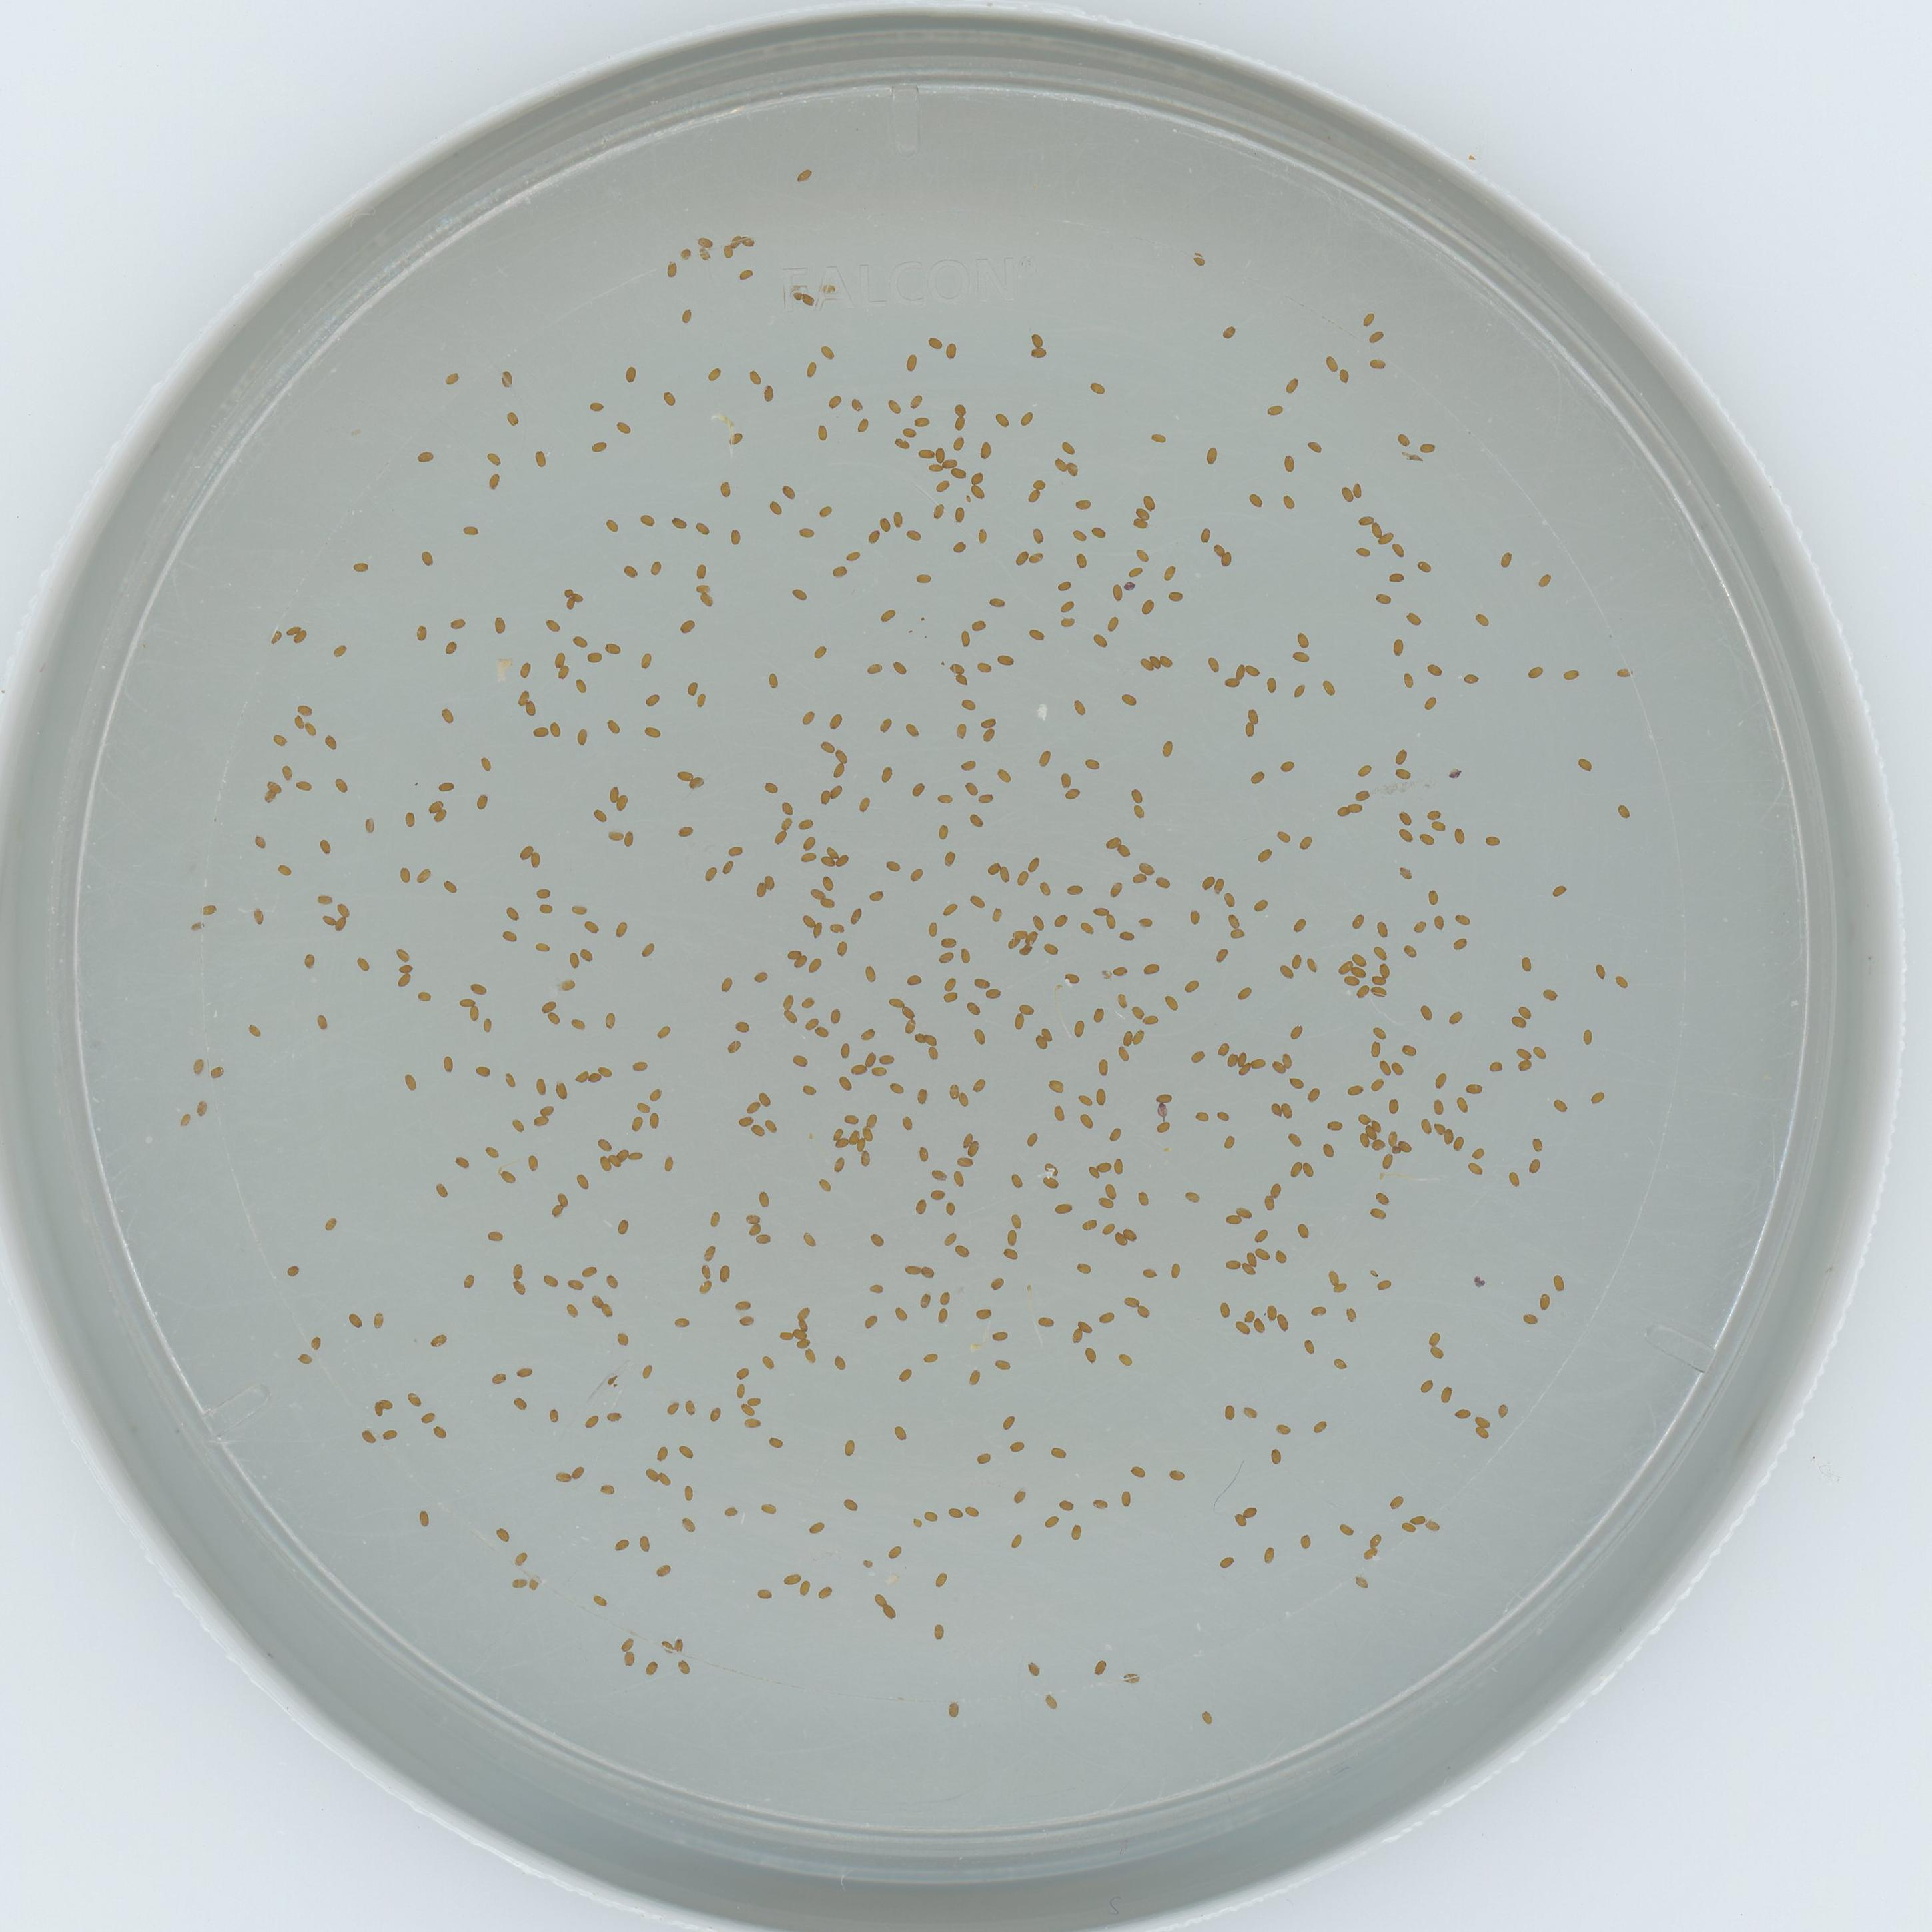seed: (787, 292, 817, 310), (1044, 1074, 1065, 1093), (531, 448, 550, 467), (1136, 596, 1155, 616), (1076, 1109, 1095, 1129), (1143, 961, 1168, 975), (821, 874, 839, 893), (603, 639, 623, 656), (278, 764, 297, 782), (437, 778, 456, 796), (886, 396, 906, 414), (828, 713, 847, 731), (331, 777, 350, 794), (416, 446, 435, 464), (573, 1171, 593, 1189), (494, 1525, 513, 1543), (642, 1660, 662, 1677), (842, 1438, 862, 1456), (1281, 375, 1300, 393), (1392, 764, 1412, 782), (1201, 446, 1221, 464), (1389, 637, 1407, 656), (1391, 748, 1410, 766), (1219, 892, 1238, 909), (1451, 932, 1470, 950), (1449, 828, 1468, 846), (1518, 954, 1536, 973), (1286, 1072, 1306, 1090), (1318, 1139, 1338, 1157), (1465, 1076, 1484, 1093), (1437, 1384, 1454, 1403), (1047, 1102, 1067, 1120), (1251, 1224, 1270, 1242), (1548, 1272, 1568, 1290), (1065, 1523, 1085, 1541), (1592, 961, 1608, 982), (679, 617, 697, 635), (904, 722, 922, 740), (908, 391, 925, 409), (441, 639, 458, 656), (448, 614, 465, 632), (504, 904, 522, 922), (702, 865, 720, 883), (915, 570, 932, 587), (412, 625, 430, 642), (892, 510, 909, 527), (614, 418, 632, 435), (621, 364, 639, 382), (591, 809, 609, 826), (660, 389, 678, 407), (393, 945, 410, 962), (517, 844, 534, 862), (902, 354, 920, 372), (571, 632, 589, 649), (492, 616, 510, 633), (747, 368, 764, 386), (759, 384, 777, 402), (694, 563, 711, 580), (717, 1263, 734, 1281), (786, 1569, 803, 1587), (439, 1053, 456, 1070), (416, 1509, 433, 1527), (678, 1442, 695, 1460), (844, 1495, 862, 1513), (793, 1049, 810, 1067), (869, 1230, 886, 1247), (487, 1226, 504, 1244), (929, 1622, 947, 1640), (524, 1152, 541, 1169), (515, 1361, 533, 1378), (566, 1276, 584, 1293), (554, 1081, 571, 1099), (1152, 874, 1169, 892), (1017, 409, 1035, 426), (994, 768, 1012, 786), (1322, 354, 1339, 372), (1371, 943, 1389, 961), (1276, 828, 1293, 846), (1049, 911, 1067, 929), (1279, 455, 1297, 472), (1396, 810, 1414, 828), (1576, 755, 1594, 773), (1166, 587, 1184, 605), (1120, 690, 1138, 708), (1497, 550, 1514, 568), (977, 441, 994, 458), (1069, 699, 1086, 717), (1028, 911, 1046, 929), (1141, 492, 1159, 510), (1293, 632, 1311, 649), (1212, 945, 1230, 962), (1396, 828, 1414, 846), (1157, 740, 1175, 757), (1097, 1307, 1115, 1325), (1132, 1189, 1150, 1207), (1417, 1003, 1435, 1021), (1168, 1465, 1185, 1483), (1284, 1159, 1302, 1177), (1090, 1086, 1108, 1104), (1090, 1658, 1108, 1675), (1525, 1155, 1543, 1173), (1384, 1095, 1401, 1113), (1373, 1187, 1391, 1205), (1306, 1083, 1323, 1100), (1093, 1056, 1111, 1074), (1293, 1221, 1311, 1238), (1299, 1336, 1316, 1353), (1454, 1093, 1472, 1111), (1161, 993, 1178, 1010), (1217, 1299, 1235, 1316), (1122, 1224, 1139, 1242), (1536, 1292, 1553, 1309), (1260, 1546, 1277, 1564), (320, 736, 340, 752), (695, 232, 715, 248), (472, 794, 492, 810), (637, 653, 656, 669), (791, 954, 810, 970), (499, 1168, 518, 1184), (428, 1332, 448, 1348), (1254, 847, 1274, 863), (1063, 883, 1083, 899), (1246, 492, 1265, 508), (1081, 755, 1100, 771), (1203, 656, 1223, 672), (1589, 1088, 1608, 1104), (1079, 1346, 1099, 1362), (1281, 1049, 1297, 1069), (1132, 1026, 1146, 1047), (911, 780, 927, 798), (718, 479, 734, 497), (939, 932, 957, 948), (793, 586, 810, 602), (582, 918, 600, 934), (885, 860, 902, 876), (676, 766, 694, 782), (315, 893, 333, 909), (925, 334, 943, 350), (571, 901, 587, 918), (879, 766, 897, 782), (462, 522, 479, 538), (361, 817, 379, 833), (485, 449, 502, 465), (934, 823, 950, 840), (334, 901, 352, 916), (869, 888, 886, 904), (780, 801, 798, 817), (271, 732, 288, 748), (612, 920, 630, 936), (671, 515, 688, 531), (605, 718, 621, 736), (943, 341, 959, 359), (708, 364, 724, 382), (908, 867, 925, 883), (879, 607, 897, 623), (485, 472, 502, 488), (441, 879, 458, 895), (396, 869, 414, 885), (678, 824, 695, 840), (573, 729, 591, 745), (639, 513, 656, 529), (333, 916, 350, 932), (439, 708, 456, 724), (499, 370, 517, 386), (644, 692, 662, 708), (416, 869, 433, 885), (729, 527, 747, 543), (892, 660, 909, 676), (646, 722, 662, 740), (906, 527, 924, 543), (847, 908, 865, 924), (517, 662, 534, 678), (248, 909, 265, 925), (833, 563, 849, 580), (607, 828, 625, 844), (444, 370, 462, 386), (586, 649, 603, 665), (803, 361, 821, 377), (587, 398, 605, 414), (536, 885, 554, 901), (352, 559, 370, 575), (315, 839, 333, 855), (800, 709, 817, 725), (915, 410, 932, 426), (580, 945, 596, 962), (780, 483, 798, 499), (738, 265, 755, 281), (786, 945, 803, 961), (826, 393, 844, 409), (294, 777, 311, 793), (267, 775, 283, 793), (718, 242, 736, 258), (200, 901, 216, 918), (823, 281, 840, 297), (418, 550, 435, 566), (395, 973, 412, 989), (596, 1134, 614, 1150), (832, 1355, 849, 1371), (922, 1348, 939, 1364), (863, 1313, 881, 1329), (915, 1145, 932, 1161), (545, 1407, 563, 1422), (734, 1017, 752, 1033), (929, 1185, 947, 1201), (718, 977, 736, 993), (646, 1111, 663, 1127), (632, 1056, 649, 1072), (605, 1407, 623, 1422), (554, 1187, 571, 1203), (768, 1433, 786, 1449), (510, 1279, 527, 1295), (817, 1583, 835, 1599), (839, 1042, 856, 1058), (380, 1426, 398, 1442), (663, 1401, 681, 1417), (580, 1261, 598, 1277), (531, 1076, 548, 1092), (419, 1408, 437, 1424), (736, 1295, 754, 1311), (862, 1024, 879, 1040), (405, 1392, 423, 1408), (931, 1164, 948, 1180), (916, 1292, 934, 1307), (844, 1108, 862, 1123), (683, 1398, 699, 1415), (474, 1062, 492, 1077), (596, 1060, 614, 1076), (614, 1537, 632, 1553), (596, 1155, 614, 1171), (888, 993, 906, 1008), (469, 980, 487, 996), (906, 971, 924, 987), (653, 1444, 671, 1460), (430, 1422, 448, 1438), (568, 1016, 586, 1031), (798, 1580, 816, 1596), (311, 1014, 329, 1030), (911, 1198, 929, 1214), (359, 1428, 377, 1444), (755, 1191, 773, 1207), (628, 1115, 646, 1131), (402, 1070, 418, 1088), (747, 1392, 764, 1408), (584, 1412, 602, 1428), (662, 1154, 678, 1171), (511, 1550, 529, 1566), (832, 1155, 849, 1171), (322, 1214, 338, 1231), (757, 1585, 775, 1601), (628, 1146, 646, 1162), (614, 1217, 632, 1233), (207, 1062, 225, 1077), (637, 1536, 655, 1552), (548, 1201, 564, 1219), (510, 1575, 527, 1591), (189, 1056, 205, 1074), (1161, 564, 1178, 580), (1026, 331, 1044, 347), (1415, 557, 1433, 573), (1138, 860, 1155, 876), (1424, 805, 1442, 821), (1385, 570, 1403, 586), (1056, 598, 1074, 614), (1072, 497, 1090, 513), (1024, 856, 1040, 874), (1247, 770, 1265, 786), (1090, 902, 1108, 918), (1267, 400, 1284, 416), (1014, 870, 1030, 888), (1412, 918, 1430, 934), (1290, 683, 1307, 699), (1185, 909, 1203, 925), (1484, 832, 1500, 849), (1426, 662, 1444, 678), (968, 893, 985, 909), (993, 410, 1010, 426), (1562, 667, 1580, 683), (982, 862, 1000, 878), (996, 651, 1014, 667), (1028, 474, 1046, 490), (1136, 913, 1154, 929), (1353, 787, 1371, 803), (1297, 835, 1315, 851), (1424, 890, 1442, 906), (1277, 759, 1295, 775), (1102, 616, 1120, 632), (1453, 909, 1470, 925), (1279, 494, 1297, 510), (1028, 527, 1044, 545), (1527, 663, 1545, 679), (1376, 533, 1394, 548), (1116, 927, 1134, 943), (1026, 626, 1044, 642), (1261, 678, 1279, 694), (1368, 356, 1385, 372), (1320, 679, 1338, 695), (1102, 835, 1120, 851), (1040, 939, 1058, 955), (1405, 610, 1422, 626), (1396, 865, 1414, 881), (1430, 915, 1447, 931), (1224, 674, 1242, 690), (1070, 527, 1088, 543), (1244, 662, 1261, 678), (1219, 324, 1237, 340), (1070, 554, 1088, 570), (1536, 571, 1553, 587), (1373, 591, 1391, 607), (1355, 510, 1373, 525), (1125, 563, 1143, 579), (1614, 803, 1631, 819), (1373, 920, 1391, 936), (1127, 787, 1145, 803), (1088, 524, 1106, 540), (1292, 649, 1309, 665), (1196, 874, 1212, 892), (1023, 929, 1040, 945), (1359, 310, 1375, 327), (1090, 632, 1108, 648), (1106, 586, 1123, 602), (1223, 911, 1240, 927), (991, 1327, 1008, 1343), (1454, 1405, 1472, 1421), (1387, 1493, 1405, 1509), (1053, 1198, 1070, 1214), (1010, 1488, 1028, 1504), (1017, 1000, 1035, 1016), (1040, 1175, 1058, 1191), (1139, 1265, 1157, 1281), (1090, 1495, 1108, 1511), (1366, 1530, 1384, 1546), (1116, 1350, 1134, 1366), (1474, 1412, 1491, 1428), (1187, 1046, 1205, 1062), (1023, 1131, 1040, 1146), (1472, 1424, 1490, 1440), (1325, 1115, 1343, 1131), (1399, 1039, 1417, 1054), (1338, 1522, 1355, 1537), (1431, 1070, 1449, 1086), (1267, 1178, 1283, 1196), (1008, 1212, 1026, 1228), (1516, 1058, 1534, 1074), (1578, 1026, 1596, 1042), (1008, 1171, 1026, 1187), (1506, 1168, 1522, 1185), (1122, 1293, 1139, 1309), (975, 1304, 993, 1320), (1219, 1403, 1237, 1419), (1522, 1309, 1539, 1325), (966, 1368, 984, 1384), (1396, 1136, 1414, 1152), (1240, 1502, 1258, 1518), (1274, 1315, 1292, 1330), (1272, 1247, 1290, 1263), (1373, 1058, 1391, 1074), (1368, 1205, 1385, 1221), (1415, 1116, 1433, 1132), (993, 1357, 1010, 1373), (1224, 1212, 1242, 1228), (1286, 1023, 1304, 1039), (975, 1449, 991, 1467), (1346, 1079, 1364, 1095), (1300, 1157, 1316, 1175), (1518, 1001, 1536, 1017), (1074, 1090, 1092, 1106), (1072, 1021, 1088, 1039), (1309, 1300, 1327, 1316), (1366, 1039, 1384, 1054), (1100, 1180, 1118, 1196), (1530, 1042, 1548, 1058), (1430, 1095, 1447, 1111), (1529, 1136, 1546, 1152), (1368, 1074, 1385, 1090), (1284, 1131, 1302, 1146), (1003, 1228, 1021, 1244), (1104, 1125, 1122, 1141), (1350, 964, 1368, 980), (262, 789, 278, 807), (809, 955, 823, 975), (955, 1155, 975, 1169), (1131, 506, 1150, 520), (1226, 925, 1246, 939), (1369, 973, 1389, 987), (545, 617, 561, 633), (934, 478, 950, 494), (941, 904, 957, 920), (858, 798, 874, 814), (303, 722, 318, 738), (695, 520, 711, 536), (950, 506, 966, 522), (566, 950, 582, 966), (504, 410, 520, 426), (502, 929, 518, 945), (867, 529, 883, 545), (685, 679, 701, 695), (678, 308, 694, 324), (879, 718, 895, 734), (830, 784, 846, 800), (573, 678, 589, 694), (798, 817, 814, 833), (276, 863, 292, 879), (832, 764, 847, 780), (295, 701, 311, 717), (801, 851, 817, 867), (478, 757, 494, 773), (936, 791, 952, 807), (950, 400, 966, 416), (869, 660, 885, 676), (950, 540, 966, 556), (402, 812, 418, 828), (821, 343, 837, 359), (548, 722, 564, 738), (591, 437, 607, 453), (931, 504, 947, 520), (694, 694, 709, 709), (663, 260, 679, 276), (640, 941, 656, 957), (816, 425, 832, 441), (878, 517, 893, 533), (766, 672, 782, 688), (267, 628, 283, 644), (849, 396, 865, 412), (292, 630, 308, 646), (522, 701, 538, 717), (835, 853, 851, 869), (833, 941, 849, 957), (616, 796, 632, 812), (322, 913, 338, 929), (770, 501, 786, 517), (251, 833, 267, 849), (752, 883, 768, 899), (513, 690, 529, 706), (800, 911, 816, 927), (741, 232, 757, 248), (798, 165, 814, 180), (888, 1543, 904, 1559), (543, 996, 559, 1012), (936, 1288, 952, 1304), (947, 1504, 962, 1520), (801, 993, 817, 1008), (890, 1079, 906, 1095), (591, 1594, 607, 1610), (708, 1210, 724, 1226), (879, 1049, 895, 1065), (510, 1263, 525, 1279), (925, 1044, 941, 1060), (416, 987, 432, 1003), (513, 1394, 529, 1410), (782, 991, 798, 1007), (920, 1263, 936, 1279), (644, 1465, 660, 1481), (941, 1230, 957, 1246), (893, 1306, 909, 1322), (483, 1143, 499, 1159), (897, 1366, 913, 1382), (754, 968, 770, 984), (934, 1307, 950, 1323), (587, 1292, 603, 1307), (492, 1368, 508, 1384), (810, 1520, 826, 1536), (510, 1116, 525, 1132), (543, 1270, 559, 1286), (370, 1311, 386, 1327), (708, 1405, 724, 1421), (828, 1007, 844, 1023), (727, 1037, 743, 1053), (462, 1272, 478, 1288), (564, 1302, 580, 1318), (803, 1079, 819, 1095), (603, 1272, 619, 1288), (621, 1651, 637, 1667), (869, 1279, 885, 1295), (702, 1242, 718, 1258), (932, 1571, 948, 1587), (674, 1313, 690, 1329), (814, 1023, 830, 1039), (736, 1364, 752, 1380), (924, 1507, 939, 1523), (656, 1023, 672, 1039), (571, 1067, 587, 1083), (764, 1116, 780, 1132), (839, 1072, 855, 1088), (502, 1070, 518, 1086), (915, 1088, 931, 1104), (941, 975, 957, 991), (678, 1660, 694, 1675), (778, 1327, 794, 1343), (554, 1467, 570, 1483), (863, 1047, 879, 1063), (246, 1021, 262, 1037), (909, 1514, 925, 1530), (867, 1109, 883, 1125), (656, 1562, 672, 1578), (761, 1500, 777, 1516), (950, 1169, 966, 1185), (883, 1603, 899, 1619), (732, 1382, 748, 1398), (740, 1311, 755, 1327), (614, 1330, 630, 1346), (782, 1008, 798, 1024), (681, 1484, 697, 1500), (679, 1516, 695, 1532), (297, 1350, 313, 1366), (945, 1702, 961, 1718), (191, 1099, 207, 1115), (527, 1576, 543, 1592), (1024, 488, 1040, 504), (1012, 550, 1028, 566), (989, 908, 1005, 924), (1357, 763, 1373, 778), (1474, 610, 1490, 626), (1290, 916, 1306, 932), (1550, 885, 1566, 901), (980, 729, 996, 745), (1037, 883, 1053, 899), (1058, 439, 1074, 455), (1350, 913, 1366, 929), (1306, 439, 1322, 455), (1368, 327, 1384, 343), (1106, 885, 1122, 901), (970, 469, 985, 485), (1399, 672, 1415, 688), (1077, 918, 1093, 934), (1035, 750, 1051, 766), (1422, 695, 1438, 711), (1196, 525, 1212, 541), (1115, 846, 1131, 862), (970, 617, 985, 633), (1244, 708, 1260, 724), (1419, 439, 1435, 455), (1159, 653, 1175, 669), (968, 812, 984, 828), (1063, 462, 1079, 478), (1212, 878, 1228, 893), (1129, 805, 1145, 821), (1336, 368, 1352, 384), (970, 485, 985, 501), (1049, 456, 1065, 472), (996, 869, 1012, 885), (1212, 541, 1228, 557), (975, 527, 991, 543), (1240, 724, 1256, 740), (1334, 805, 1350, 821), (1230, 663, 1246, 679), (1189, 249, 1205, 265), (1230, 1511, 1246, 1527), (1090, 1007, 1106, 1023), (1010, 1012, 1026, 1028), (1242, 1403, 1258, 1419), (989, 1274, 1005, 1290), (1221, 1132, 1237, 1148), (1168, 1263, 1184, 1279), (1269, 1447, 1284, 1463), (1000, 1414, 1016, 1430), (1063, 970, 1079, 985), (1553, 1095, 1569, 1111), (1008, 1532, 1024, 1548), (1192, 1106, 1208, 1122), (1037, 1311, 1053, 1327), (1237, 985, 1253, 1001), (1297, 1532, 1313, 1548), (1332, 1355, 1348, 1371), (1184, 1185, 1200, 1201), (1343, 1306, 1359, 1322), (1417, 1378, 1433, 1394), (1447, 1008, 1463, 1024), (1493, 1403, 1509, 1419), (1074, 1258, 1090, 1274), (1001, 1247, 1017, 1263), (1614, 973, 1629, 989), (1099, 1219, 1115, 1235), (1129, 1463, 1145, 1479), (1042, 1514, 1058, 1530), (1214, 1106, 1230, 1122), (1274, 1421, 1290, 1437), (1391, 1058, 1407, 1074), (1261, 1304, 1277, 1320), (1219, 1553, 1235, 1569), (1254, 1244, 1270, 1260), (1109, 1230, 1125, 1246), (1453, 1134, 1468, 1150), (1116, 1490, 1132, 1506), (1024, 1661, 1040, 1677), (1470, 1145, 1486, 1161), (1118, 1030, 1134, 1046), (1077, 1316, 1093, 1332), (1155, 1086, 1171, 1102), (1355, 1131, 1371, 1146), (1260, 1194, 1276, 1210), (1325, 1269, 1341, 1284), (1042, 1695, 1058, 1711), (966, 1139, 982, 1155), (1146, 655, 1162, 671), (607, 1155, 623, 1171), (918, 446, 936, 460), (817, 504, 835, 518), (902, 425, 920, 439), (938, 950, 955, 964), (801, 837, 819, 851), (727, 844, 745, 858), (621, 563, 639, 577), (603, 518, 621, 533), (688, 777, 706, 791), (720, 862, 738, 876), (531, 725, 548, 740), (695, 249, 713, 264), (819, 741, 837, 755), (948, 435, 966, 449), (855, 418, 872, 432), (426, 800, 444, 814), (545, 1012, 563, 1026), (901, 1003, 918, 1017), (738, 1111, 755, 1125), (345, 1311, 363, 1325), (639, 1364, 656, 1378), (899, 1115, 916, 1129), (602, 1012, 619, 1026), (801, 1231, 819, 1246), (862, 968, 879, 982), (747, 1223, 764, 1237), (531, 1115, 548, 1129), (1430, 821, 1447, 835), (1054, 773, 1072, 787), (1401, 943, 1419, 957), (1129, 874, 1146, 888), (1389, 543, 1407, 557), (989, 596, 1007, 610), (1100, 915, 1118, 929), (977, 793, 994, 807), (1062, 787, 1079, 801), (1028, 347, 1046, 361), (1394, 432, 1412, 446), (1350, 950, 1368, 964), (984, 987, 1001, 1001), (1033, 1033, 1047, 1051), (1311, 1419, 1329, 1433), (1056, 1497, 1074, 1511), (1509, 1014, 1527, 1028), (1235, 1203, 1253, 1217), (973, 1028, 987, 1046), (1486, 1056, 1504, 1070), (1424, 1518, 1442, 1532), (1277, 966, 1295, 980), (1514, 1042, 1532, 1056), (1081, 1215, 1099, 1230), (1371, 1023, 1389, 1037), (1428, 1346, 1445, 1361), (1467, 1161, 1484, 1175), (1212, 1039, 1230, 1053), (1129, 1003, 1143, 1021), (1122, 1670, 1139, 1684), (1336, 961, 1353, 975), (961, 1132, 975, 1150), (855, 1136, 867, 1155), (395, 962, 414, 975), (978, 717, 998, 729), (554, 651, 570, 665), (895, 437, 911, 451), (821, 897, 837, 911), (943, 455, 959, 469), (764, 876, 778, 892), (557, 665, 573, 679), (333, 644, 349, 658), (301, 952, 317, 966), (538, 901, 554, 915), (846, 548, 862, 563), (534, 939, 550, 954), (830, 920, 846, 934), (288, 717, 304, 731), (623, 832, 637, 847), (699, 593, 715, 607), (812, 922, 826, 938), (800, 525, 816, 540), (695, 580, 711, 594), (833, 750, 849, 764), (764, 780, 780, 794), (773, 832, 789, 846), (678, 244, 694, 258), (941, 851, 957, 865), (649, 561, 665, 575), (929, 460, 945, 474), (810, 886, 826, 901), (814, 646, 830, 660), (729, 232, 745, 246), (731, 430, 745, 446), (605, 787, 619, 803), (433, 810, 449, 824), (821, 856, 837, 870), (780, 817, 796, 832), (902, 1017, 918, 1031), (893, 1424, 909, 1438), (941, 1200, 957, 1214), (648, 1085, 663, 1099), (858, 1150, 872, 1166), (906, 1260, 920, 1276), (479, 1017, 495, 1031), (817, 1177, 833, 1191), (453, 1154, 469, 1168), (600, 1481, 616, 1495), (435, 1182, 449, 1198), (308, 1336, 324, 1350), (759, 1090, 775, 1104), (600, 1304, 616, 1318), (724, 1506, 740, 1520), (672, 1637, 686, 1652), (467, 1005, 481, 1021), (761, 1355, 777, 1369), (571, 1465, 587, 1479), (699, 1263, 715, 1277), (947, 1083, 961, 1099), (619, 1637, 635, 1651), (740, 1403, 755, 1417), (697, 1279, 713, 1293), (803, 1348, 819, 1362), (750, 1123, 766, 1138), (924, 1033, 939, 1047), (755, 1231, 771, 1246), (872, 1063, 888, 1077), (796, 1304, 812, 1318), (561, 977, 575, 993), (745, 1099, 761, 1113), (955, 1242, 970, 1258), (377, 1392, 391, 1408), (587, 1069, 603, 1083), (605, 1371, 619, 1387), (175, 1111, 191, 1125), (847, 1129, 862, 1145), (370, 1401, 384, 1417), (872, 1591, 888, 1605), (1054, 579, 1070, 593), (1419, 833, 1435, 847), (1355, 545, 1369, 561), (1058, 616, 1074, 630), (1253, 897, 1269, 911), (1338, 485, 1352, 501), (1615, 665, 1631, 679), (975, 660, 991, 674), (1463, 671, 1479, 685), (1288, 954, 1304, 968), (1352, 481, 1366, 497), (1028, 550, 1044, 564), (1088, 380, 1104, 395), (1150, 430, 1166, 444), (1132, 547, 1148, 561), (1219, 552, 1235, 566), (1138, 656, 1152, 672), (1306, 957, 1320, 973), (1240, 1306, 1254, 1322), (1543, 987, 1559, 1001), (975, 975, 991, 989), (1410, 1511, 1426, 1525), (1224, 1256, 1240, 1270), (966, 1000, 982, 1014), (1353, 1575, 1369, 1589), (1182, 978, 1198, 993), (1008, 1438, 1024, 1453), (1113, 993, 1129, 1007), (1141, 1012, 1157, 1026), (1134, 1306, 1150, 1320), (1426, 1330, 1442, 1345), (971, 1079, 987, 1093), (1371, 984, 1387, 998), (1281, 1100, 1295, 1116), (1198, 1711, 1214, 1725), (1113, 1046, 1129, 1060), (1049, 1444, 1065, 1458), (1353, 1109, 1369, 1123), (1380, 1152, 1394, 1168), (1251, 1054, 1267, 1069), (1332, 1281, 1348, 1295), (1155, 1120, 1171, 1134), (1233, 1320, 1249, 1334), (1111, 1157, 1125, 1173), (1095, 1194, 1111, 1208), (1270, 1058, 1284, 1074), (966, 1504, 980, 1520), (1224, 1049, 1238, 1065), (1376, 1279, 1392, 1293), (1267, 1099, 1281, 1115), (1042, 1162, 1058, 1177), (1242, 1249, 1258, 1263), (1362, 1546, 1378, 1560), (1343, 973, 1359, 987), (1376, 964, 1392, 978), (1083, 1162, 1099, 1177), (955, 1093, 971, 1108), (959, 948, 973, 964), (189, 918, 205, 932), (948, 662, 966, 674), (959, 630, 971, 648), (851, 1062, 869, 1074), (745, 1417, 763, 1430), (745, 1208, 763, 1221), (1131, 518, 1148, 531), (1042, 1026, 1054, 1044), (817, 791, 832, 805), (952, 416, 966, 430), (925, 922, 939, 936), (529, 855, 543, 869), (563, 596, 577, 610), (571, 591, 586, 605), (458, 993, 472, 1007), (285, 1263, 299, 1277), (943, 989, 957, 1003), (660, 1472, 674, 1486), (616, 1146, 630, 1161), (805, 1017, 819, 1031), (863, 1125, 878, 1139), (862, 1557, 876, 1571), (660, 1638, 674, 1652), (835, 1136, 849, 1150), (962, 697, 977, 711), (1251, 1318, 1265, 1332), (1371, 1138, 1385, 1152), (1069, 1329, 1083, 1343), (1401, 1522, 1415, 1536), (1442, 1129, 1456, 1143), (1095, 1157, 1109, 1171), (1385, 1127, 1399, 1141), (1235, 1062, 1249, 1076), (283, 623, 299, 635), (948, 467, 964, 479), (955, 724, 968, 740), (913, 1031, 929, 1044), (540, 1102, 556, 1115), (635, 1099, 651, 1111), (832, 1123, 844, 1139), (796, 1316, 809, 1332), (966, 782, 978, 798), (1346, 803, 1362, 816), (1012, 927, 1028, 939), (1111, 966, 1127, 978), (1242, 1263, 1258, 1276), (1235, 1049, 1247, 1065), (356, 954, 370, 966), (824, 846, 839, 858), (561, 586, 575, 598), (796, 1338, 810, 1350), (793, 1327, 807, 1339), (1368, 524, 1382, 536), (1019, 943, 1033, 955), (1355, 985, 1369, 998), (1433, 1122, 1445, 1136), (1369, 1118, 1382, 1132), (1366, 1125, 1378, 1139), (1008, 936, 1021, 950), (936, 446, 947, 460), (966, 759, 977, 773), (954, 674, 966, 685), (1391, 1145, 1403, 1155), (962, 494, 975, 504), (1368, 1269, 1378, 1279), (1368, 1270, 1380, 1279)
